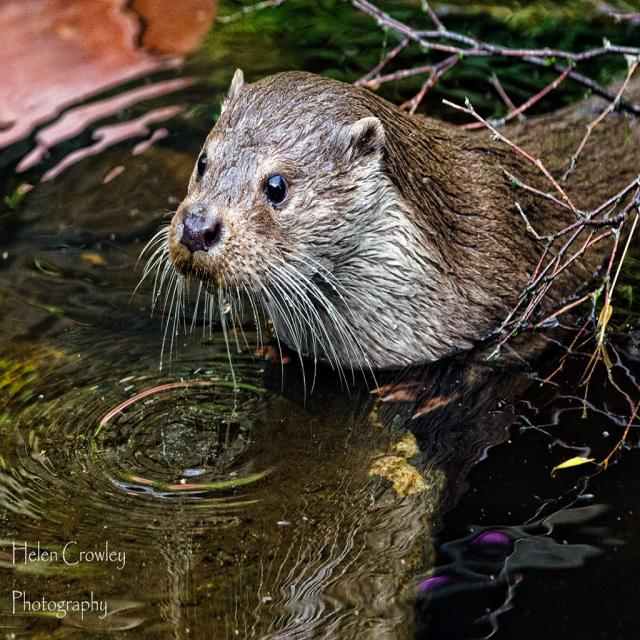otter: (173, 71, 508, 371)
